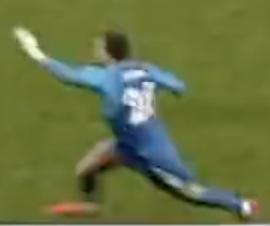goalkeeper: (6, 18, 270, 226)
